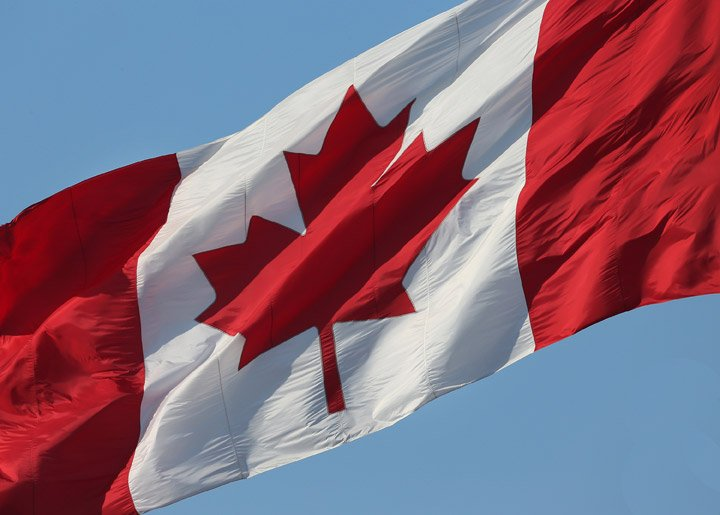Canada flag: (4, 1, 709, 515)
